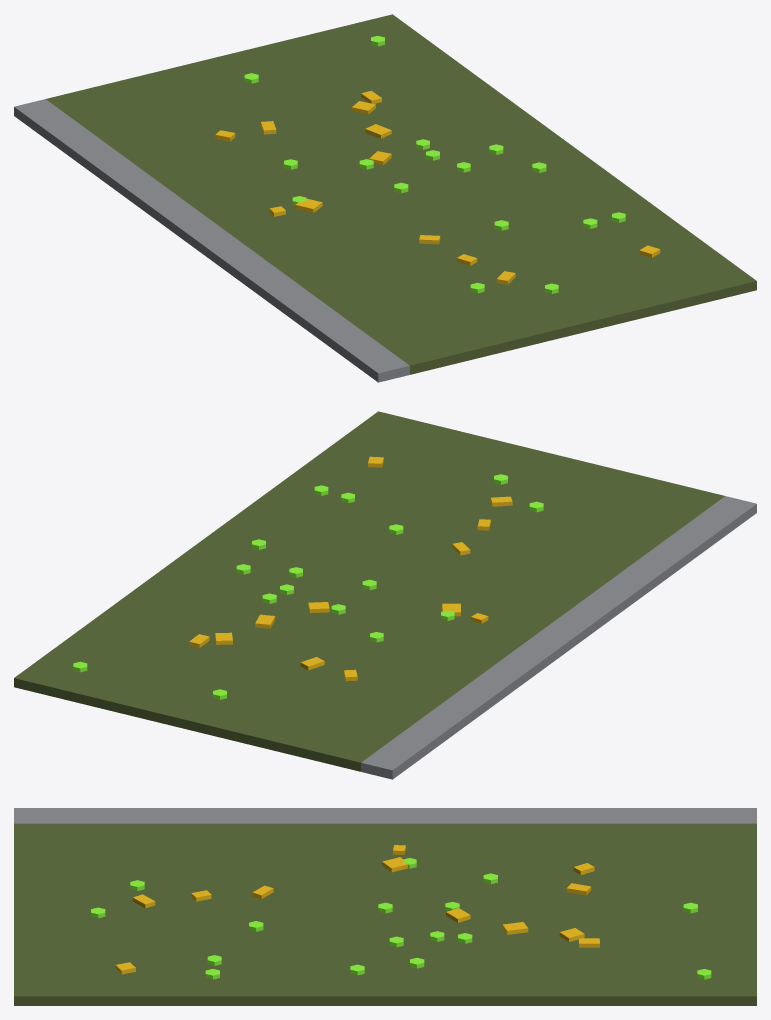
Rendered from env_r11_verge.glb.
3 renders of one model, top to bottom at view 1: azimuth 30°, elevation 25°; view 2: azimuth 150°, elevation 25°; view 3: azimuth 270°, elevation 25°, orthographic.
Visible parts, largest first — view 1: env_r11_verge; view 2: env_r11_verge; view 3: env_r11_verge.
Part boxes in pixels (x1,y1,x2,y2): env_r11_verge: (14,14,756,382); env_r11_verge: (14,411,756,779); env_r11_verge: (14,808,756,1005).
Size of the model in its own units: 6 by 0.2 by 10.
1 material, 1 textured.
